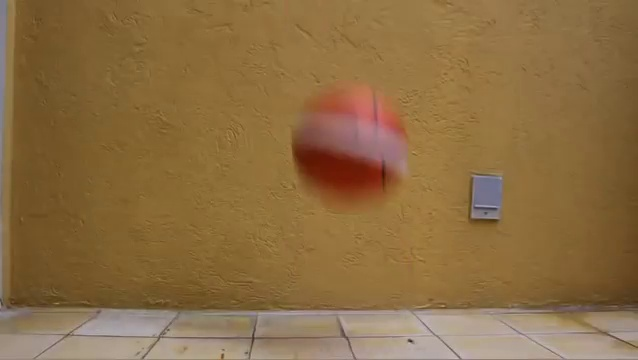ball: (289, 83, 411, 211)
